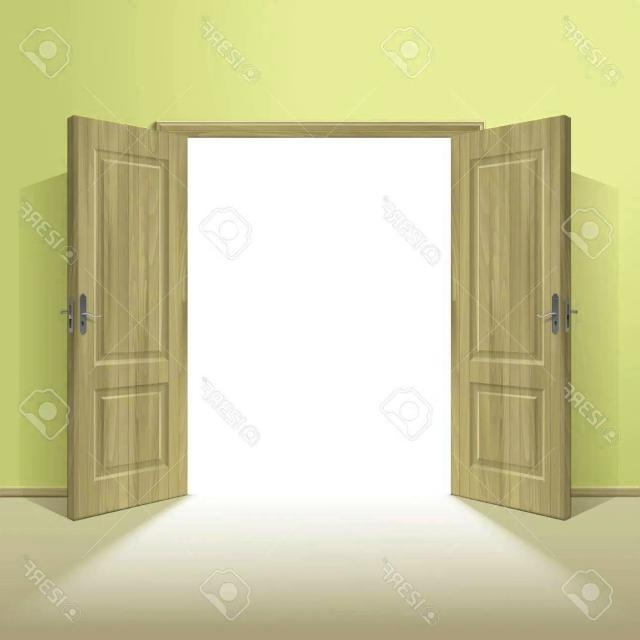door: (65, 114, 188, 520), (450, 114, 572, 519)
